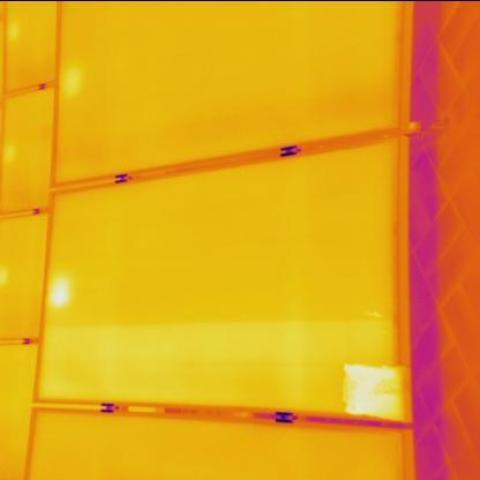fault: (340, 362, 405, 416), (48, 272, 70, 303)
